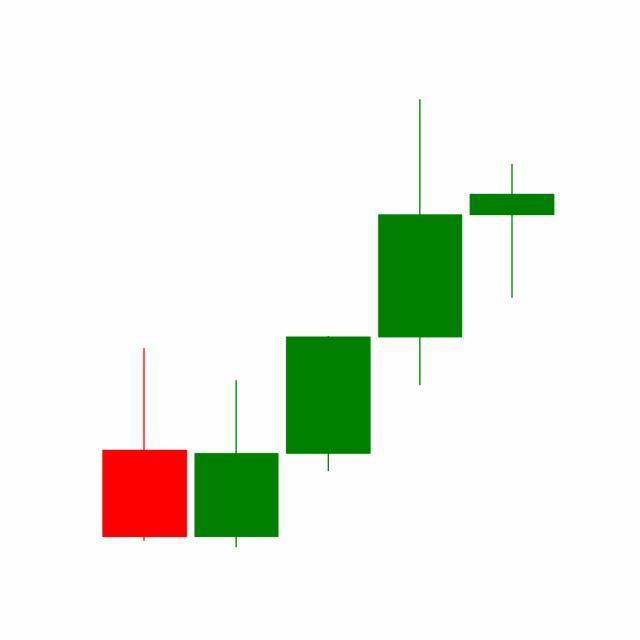Spinning Top: (466, 162, 559, 300)
